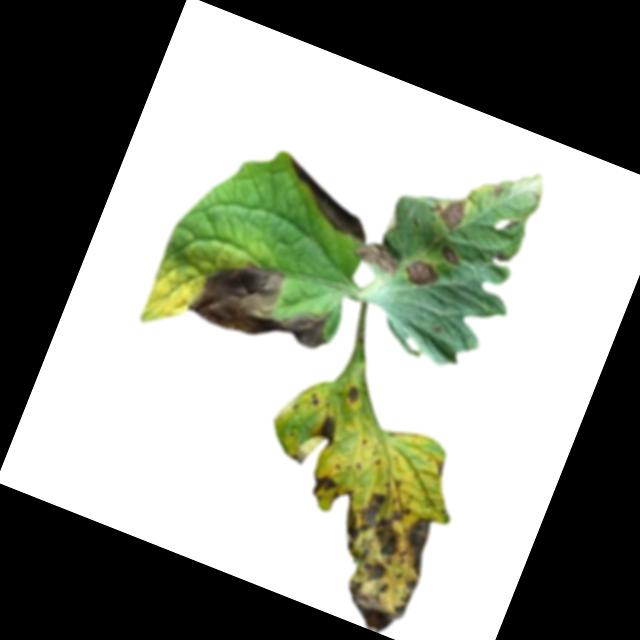Early_blight: (301, 480, 442, 639), (186, 241, 347, 365), (271, 154, 386, 244), (350, 233, 404, 278), (424, 186, 470, 234), (400, 254, 441, 290), (307, 408, 343, 448), (305, 470, 339, 502), (436, 241, 465, 268), (342, 382, 362, 406), (488, 181, 506, 199), (432, 456, 448, 476)
